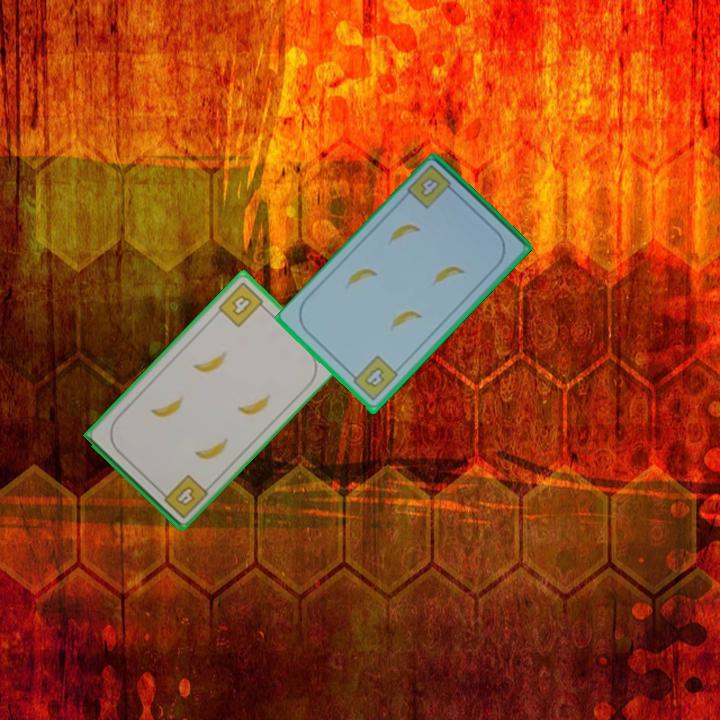4b: (214, 278, 270, 330), (346, 352, 401, 404), (404, 161, 460, 212), (155, 471, 211, 521)
